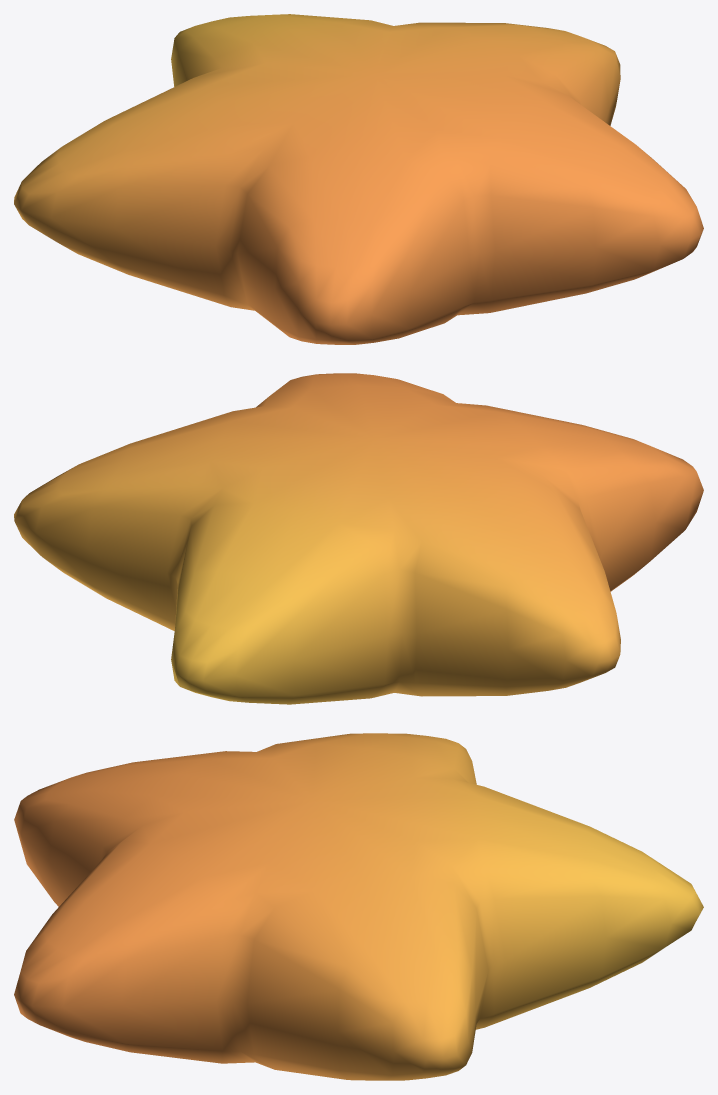
Rendered from MetaCurrency.fbx.
3 views of the same model, one above another, from view 1: azimuth 30°, elevation 25°; view 2: azimuth 150°, elevation 25°; view 3: azimuth 270°, elevation 25° (orthographic). The views are drawn at different scales.
Parts seen in each view (by area): view 1: MetaCurrency; view 2: MetaCurrency; view 3: MetaCurrency.
Part boxes in pixels (x1=…): MetaCurrency: x1=14, y1=14, x2=703, y2=344; MetaCurrency: x1=14, y1=373, x2=703, y2=704; MetaCurrency: x1=14, y1=733, x2=703, y2=1080.
Bounding box in the file's own units: 1.77 × 0.5812 × 1.7.
